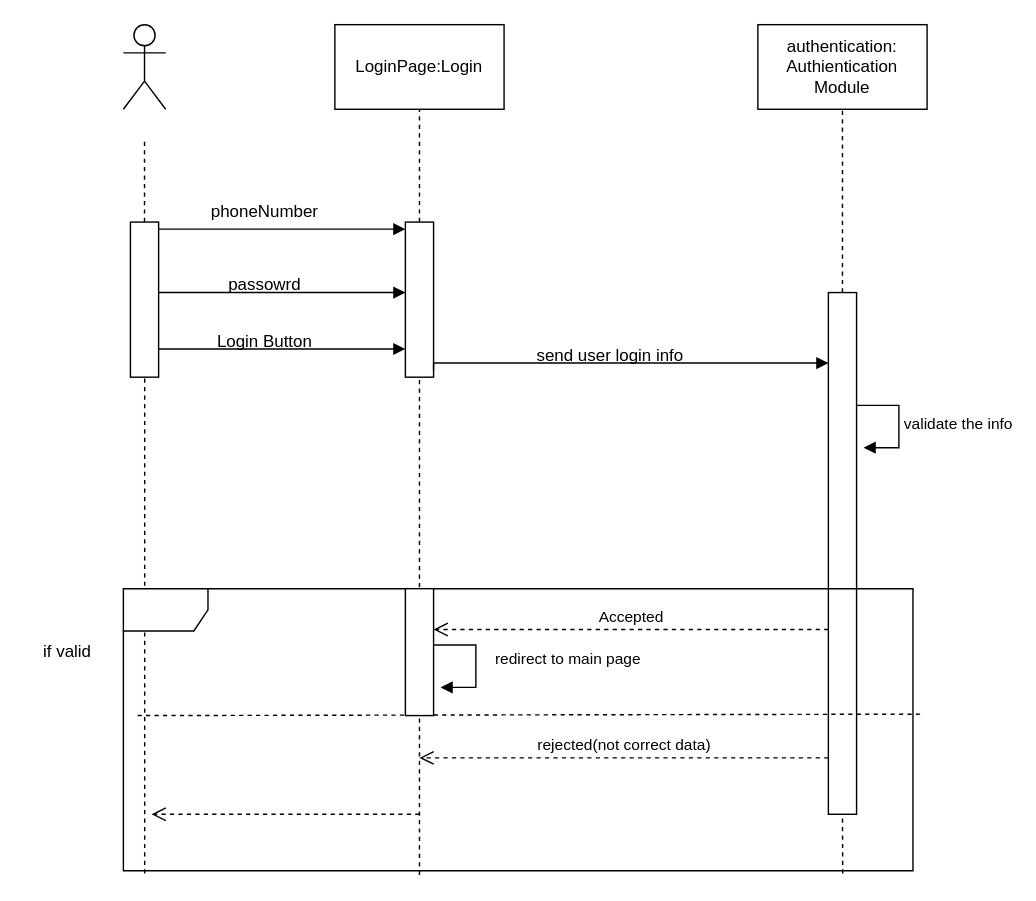
This 1036x901 diagram has some shape labels left out. The box of each missing label's shape, as (x1, y1, x2, y2) in pixels:
frame: (122, 587, 913, 871)
User: (122, 23, 166, 109)
